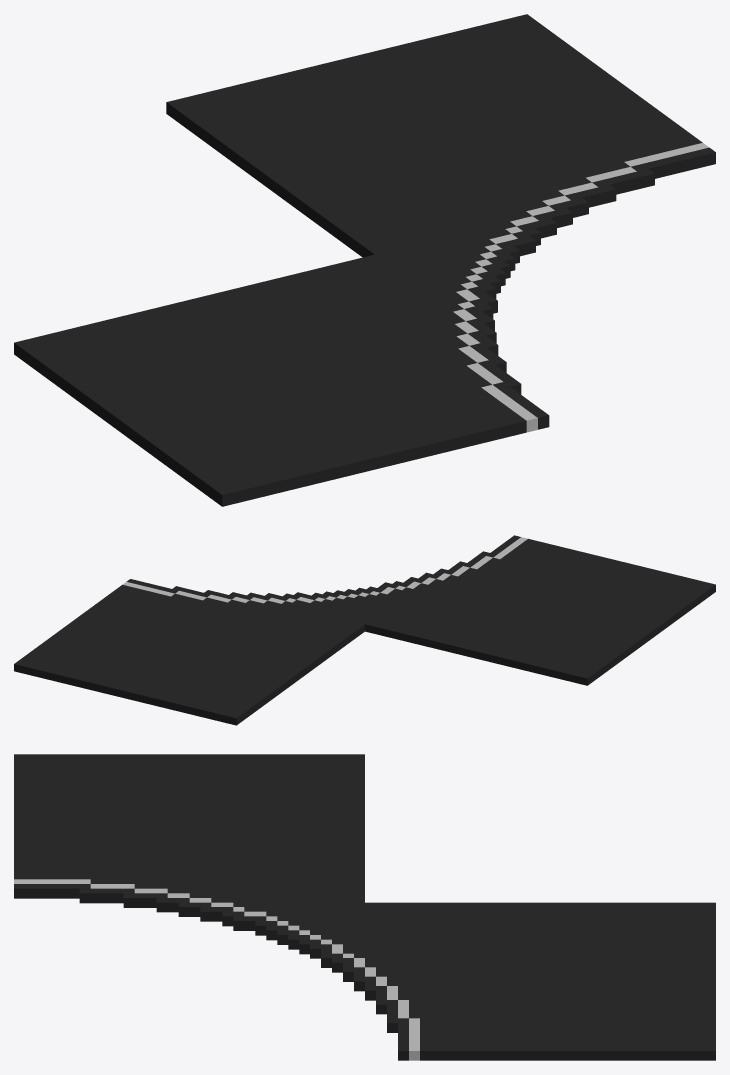
The model's file is asphalt-rounded-large-inner.gltf.
3 views of the same model, one above another, from view 1: azimuth 30°, elevation 25°; view 2: azimuth 150°, elevation 25°; view 3: azimuth 270°, elevation 25° (orthographic). The views are drawn at different scales.
Visible parts, largest first — view 1: asphalt-rounded-large-inner_model; view 2: asphalt-rounded-large-inner_model; view 3: asphalt-rounded-large-inner_model.
Boxes of the visible parts, x1,y1,x2,y2 form: asphalt-rounded-large-inner_model: (14,14,715,506); asphalt-rounded-large-inner_model: (14,535,715,725); asphalt-rounded-large-inner_model: (14,754,715,1060).
Bounding box in the file's own units: 6.4 × 0.1 × 6.4.
Materials: 1 (1 with a texture image).
